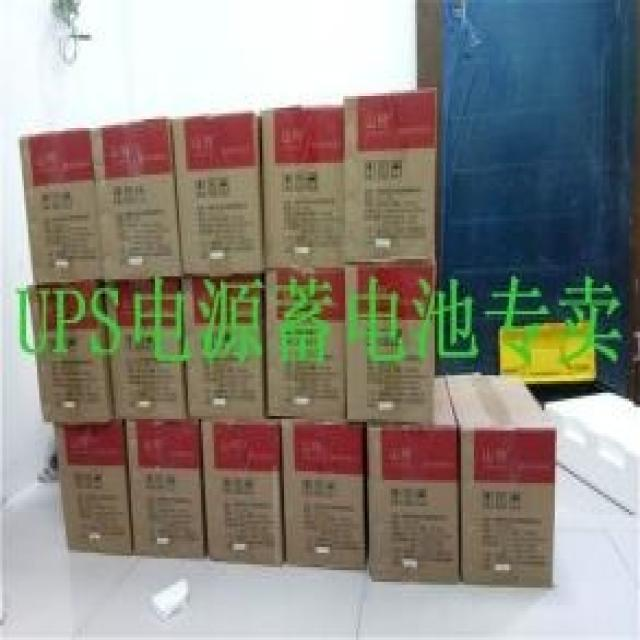box: (445, 375, 557, 586), (364, 376, 462, 581), (340, 87, 436, 266), (170, 110, 266, 277), (341, 259, 436, 424), (91, 116, 181, 281), (259, 108, 344, 273), (19, 129, 103, 286), (280, 418, 367, 568), (181, 273, 267, 418), (200, 418, 284, 565), (103, 277, 187, 423), (28, 282, 114, 423), (267, 267, 346, 418), (128, 420, 207, 558), (53, 422, 133, 555)
